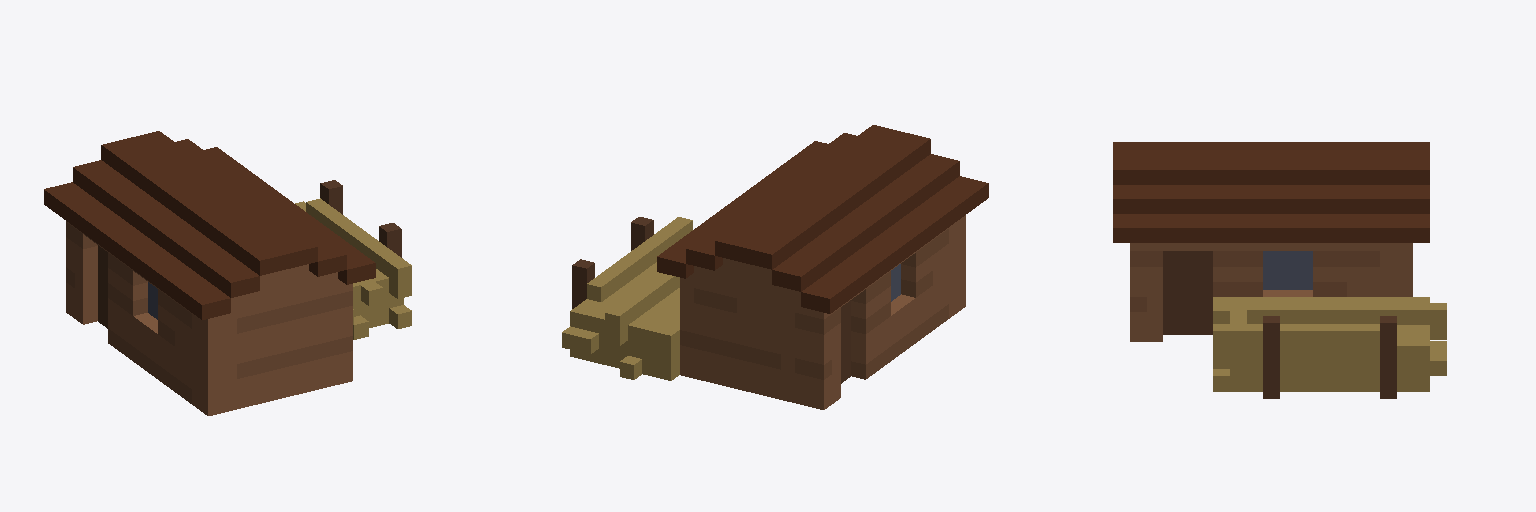
The picture shows the model from 3 angles: view 1: azimuth 30°, elevation 25°; view 2: azimuth 150°, elevation 25°; view 3: azimuth 270°, elevation 25°; orthographic projection.
Visible parts, largest first — view 1: object 1; view 2: object 1; view 3: object 1.
Boxes of the visible parts, x1,y1,x2,y2 form: object 1: [44, 131, 411, 415]; object 1: [562, 125, 988, 409]; object 1: [1113, 142, 1446, 398].
Size of the model in its own units: 1.9 by 1 by 2.
1 materials, 1 textured.